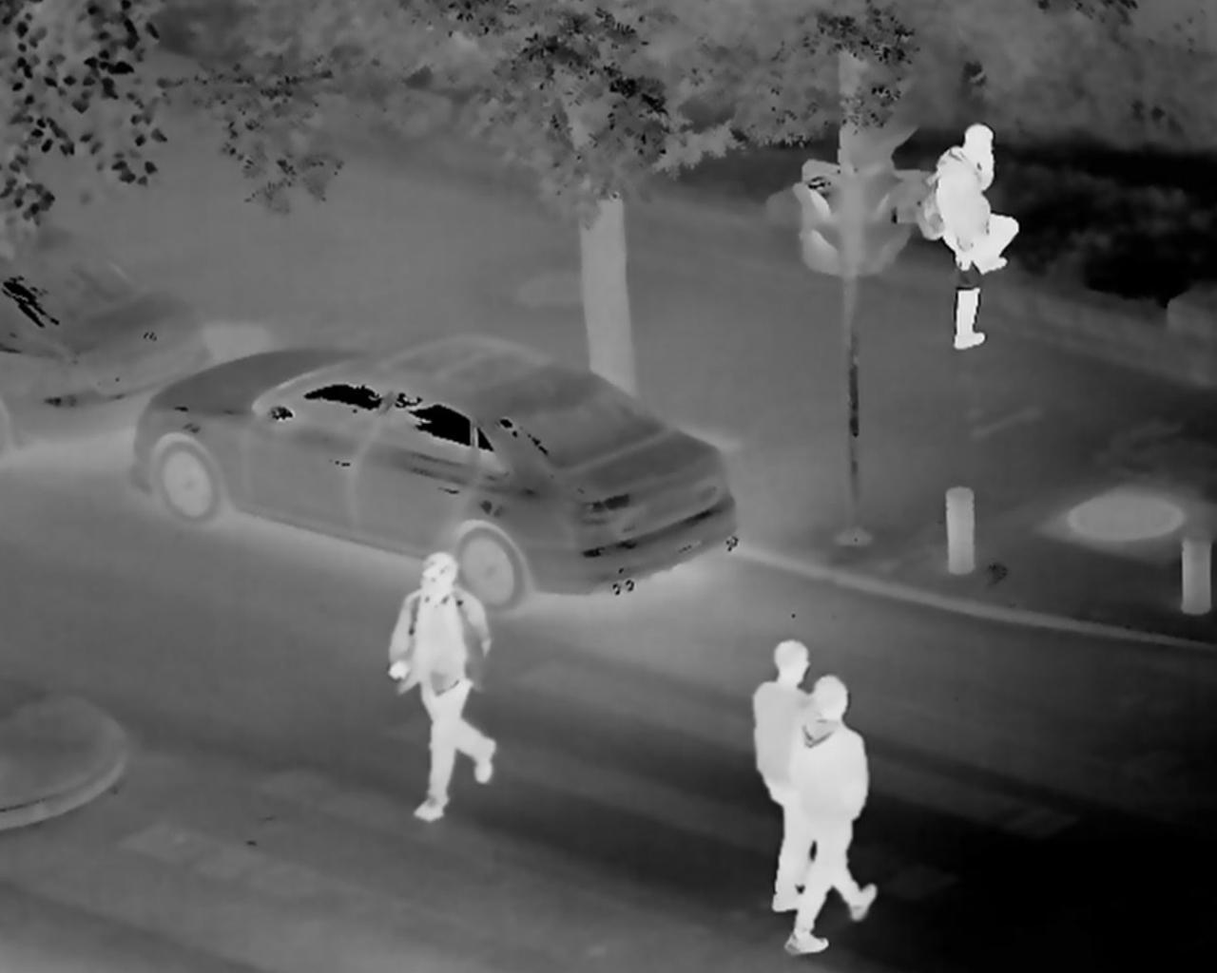person: (382, 549, 505, 818), (787, 673, 880, 961), (916, 117, 1022, 353), (751, 628, 831, 932)
